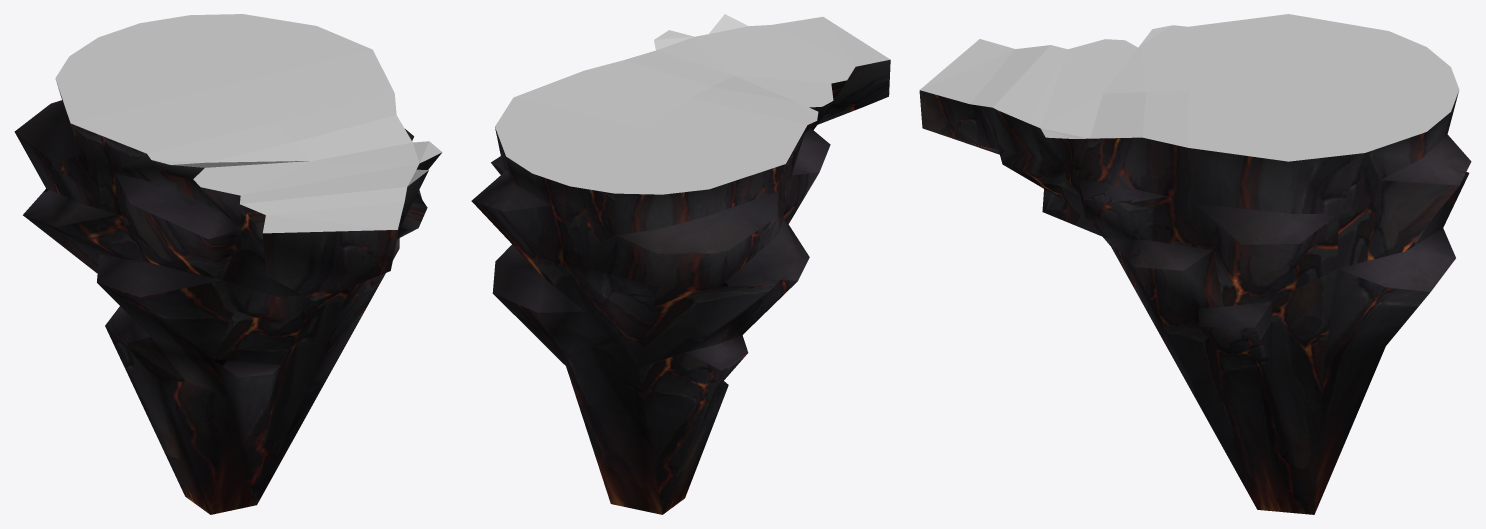
File: temple_platform03.FBX
3 views of the same model, side by side, from view 1: azimuth 30°, elevation 25°; view 2: azimuth 150°, elevation 25°; view 3: azimuth 270°, elevation 25° (orthographic). The views are drawn at different scales.
Visible parts, largest first — view 1: temple_platform03b, temple_platform03a; view 2: temple_platform03b, temple_platform03a; view 3: temple_platform03b, temple_platform03a.
Part boxes in pixels (x1,y1,x2,y2): temple_platform03b: (14,83,441,514); temple_platform03a: (55,14,441,233); temple_platform03b: (471,59,890,514); temple_platform03a: (495,14,889,194); temple_platform03b: (919,90,1471,514); temple_platform03a: (920,14,1459,161).
Bounding box in the file's own units: 819 × 968 × 1152.
